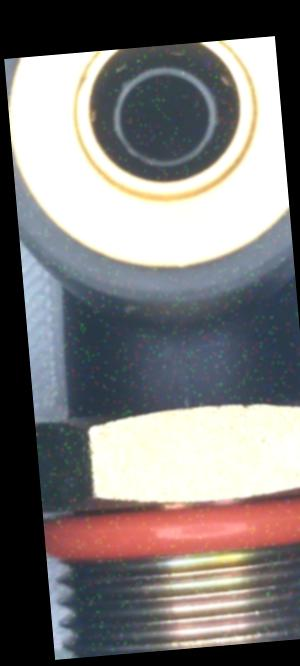joint line: (175, 326, 202, 379)
white mark: (176, 391, 194, 414)
